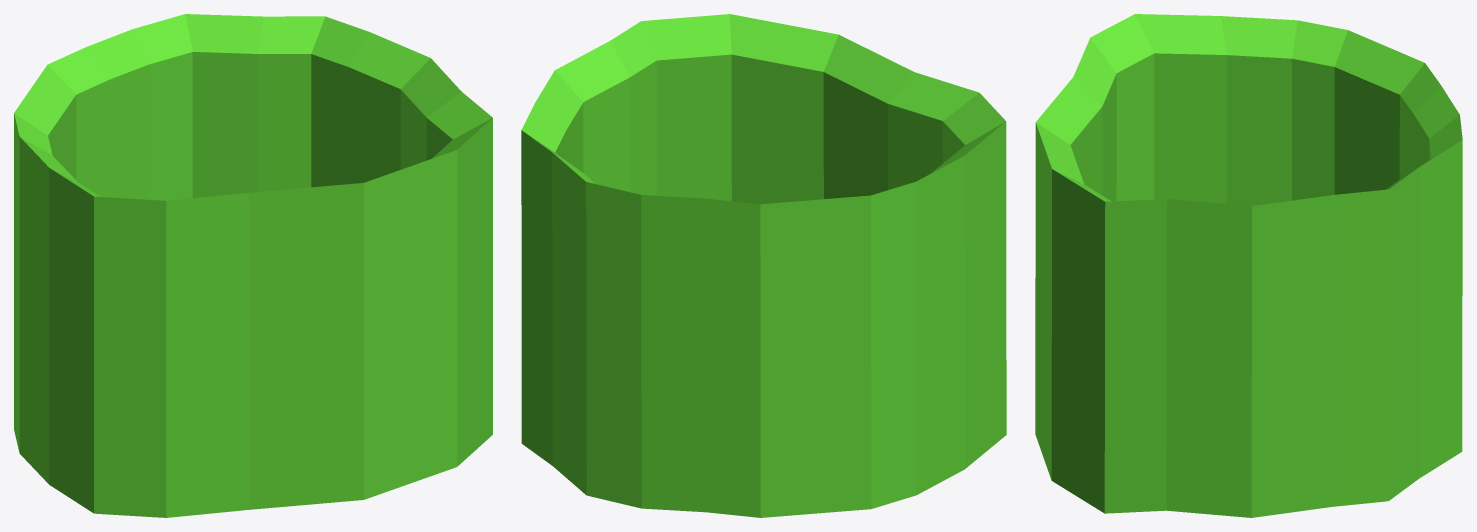
The model's file is InvWall2.fbx.
3 views of the same model, side by side, from view 1: azimuth 30°, elevation 25°; view 2: azimuth 150°, elevation 25°; view 3: azimuth 270°, elevation 25° (orthographic).
Parts seen in each view (by area): view 1: Island 2.001; view 2: Island 2.001; view 3: Island 2.001.
Part boxes in pixels (<box>): Island 2.001: <box>14,14,492,517</box>; Island 2.001: <box>521,14,1006,517</box>; Island 2.001: <box>1035,14,1462,517</box>.
Size of the model in its own units: 1553 by 1196 by 1468.
